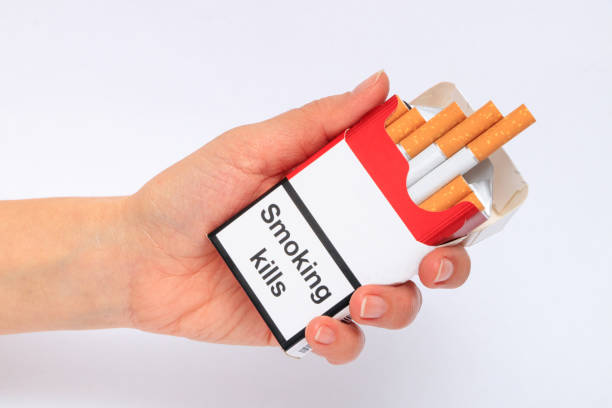cigarette: (210, 77, 536, 359), (408, 104, 536, 203), (406, 99, 506, 187), (398, 101, 468, 158), (417, 175, 472, 213), (386, 107, 426, 143), (385, 97, 409, 127), (456, 194, 485, 211)
